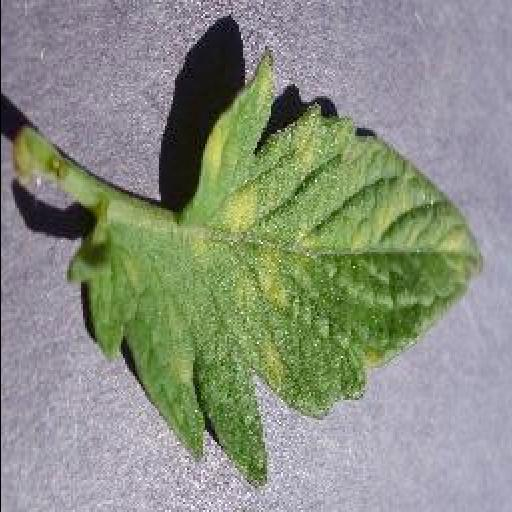disease_tomato: (65, 44, 487, 486)
